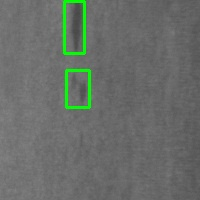inclusion: (64, 1, 84, 53), (66, 70, 89, 107)
